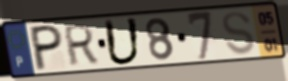7: (185, 9, 216, 63)
8: (144, 16, 176, 62)
P: (30, 23, 64, 74)
R: (63, 23, 100, 69)
S: (220, 9, 257, 57)
U: (101, 17, 143, 68)
